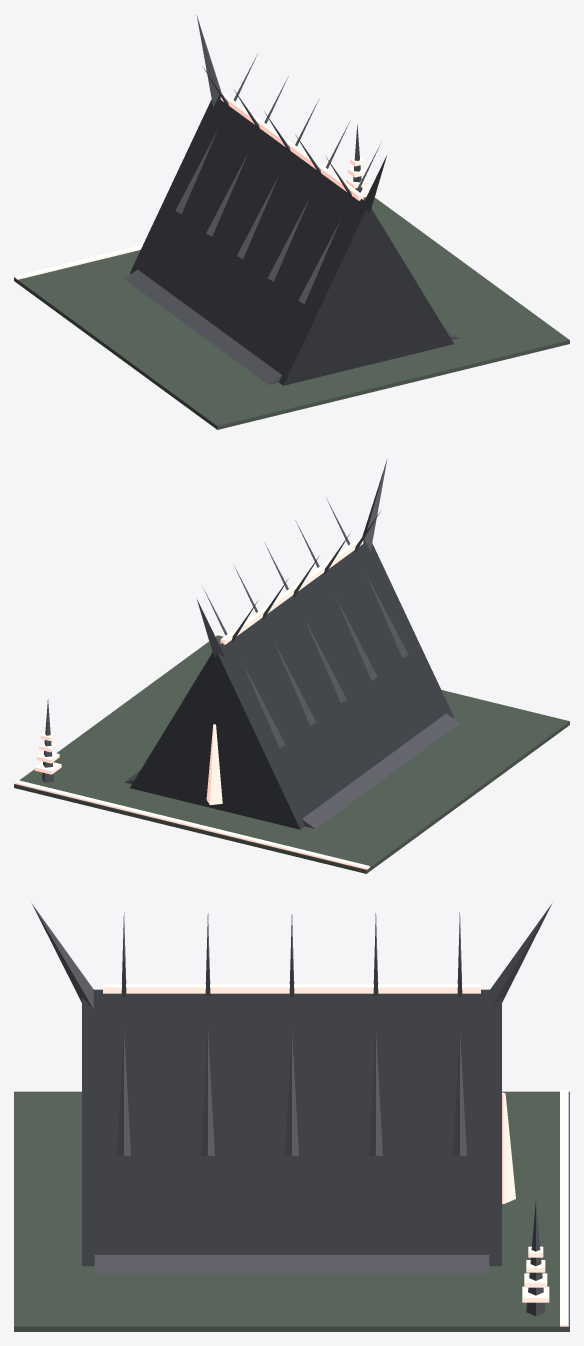
Rendered from zone_low_3_t4.glb.
3 views of the same model, one above another, from view 1: azimuth 30°, elevation 25°; view 2: azimuth 150°, elevation 25°; view 3: azimuth 270°, elevation 25° (orthographic). The views are drawn at different scales.
Visible parts, largest first — view 1: zone_low_3_t4, detail; view 2: zone_low_3_t4, detail; view 3: zone_low_3_t4, detail.
Part boxes in pixels (x1=…): zone_low_3_t4: x1=14, y1=15, x2=569, y2=429; detail: x1=14, y1=125, x2=368, y2=279; zone_low_3_t4: x1=14, y1=459, x2=569, y2=873; detail: x1=14, y1=699, x2=369, y2=869; zone_low_3_t4: x1=14, y1=904, x2=569, y2=1331; detail: x1=522, y1=1089, x2=568, y2=1326.
Bounding box in the file's own units: 19.6 × 12.15 × 19.6.
